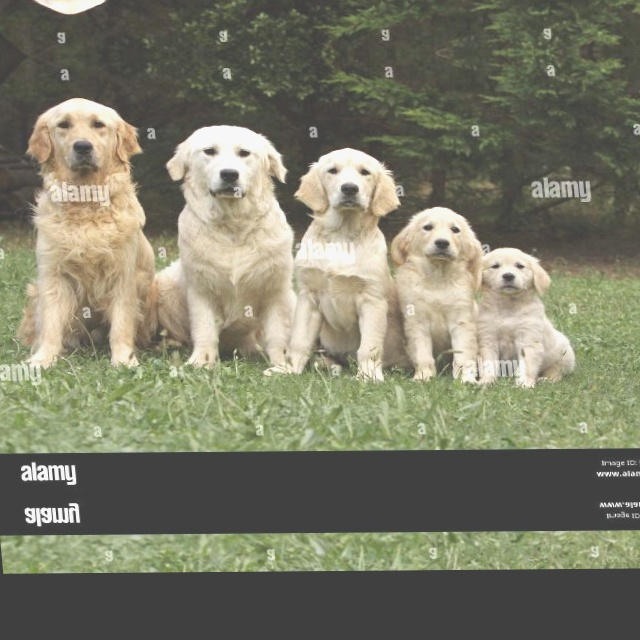dog: (0, 80, 166, 390), (144, 99, 316, 374), (286, 118, 417, 407), (479, 218, 584, 412), (401, 194, 494, 397), (0, 0, 132, 31), (133, 0, 283, 9), (511, 568, 599, 570)
